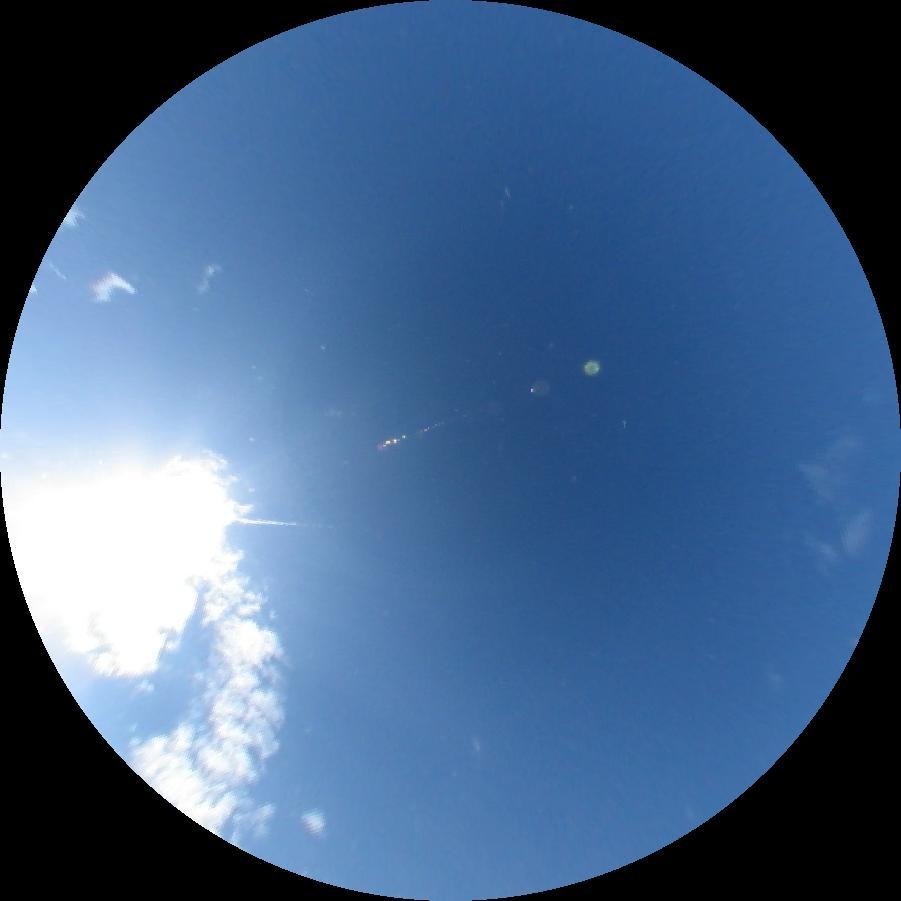contrail young: (42, 255, 68, 284)
sun: (3, 454, 230, 620)
unknow: (234, 518, 335, 529)
